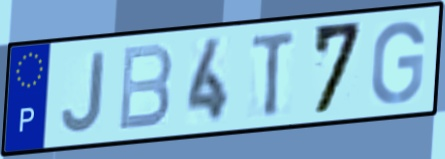4: (184, 34, 231, 126)
7: (309, 19, 364, 119)
B: (115, 40, 176, 134)
G: (367, 18, 427, 107)
J: (59, 48, 108, 136)
T: (249, 28, 299, 121)
